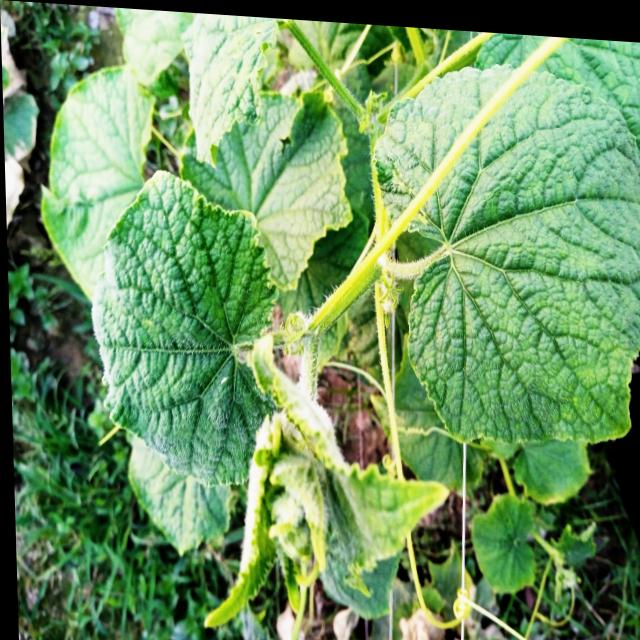Fresh-Leaf: (372, 65, 640, 447), (89, 163, 281, 489)
